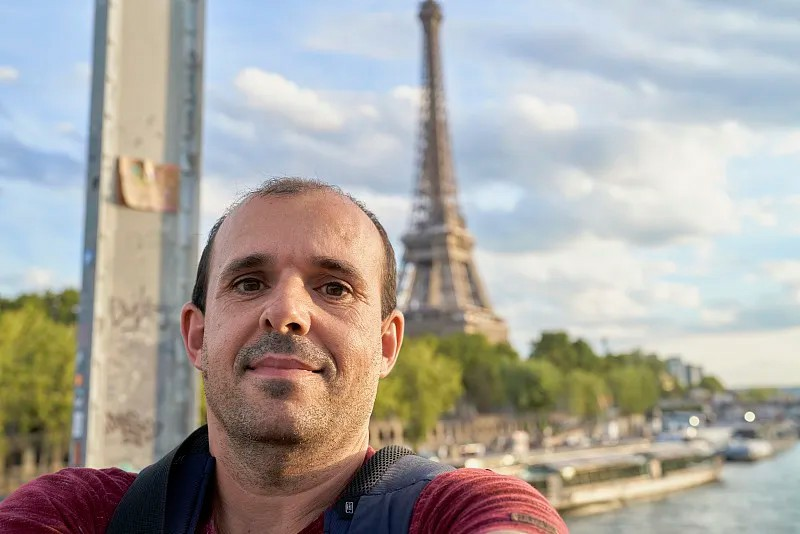Eiffel: (394, 1, 511, 346)
